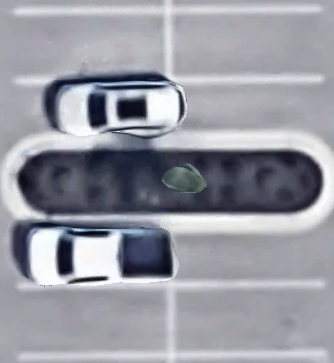Occupied: (16, 222, 170, 284), (14, 79, 169, 139)
Vacant: (12, 9, 167, 80), (167, 9, 322, 80), (169, 284, 322, 355), (16, 286, 171, 356), (171, 222, 322, 286), (167, 79, 323, 140)
